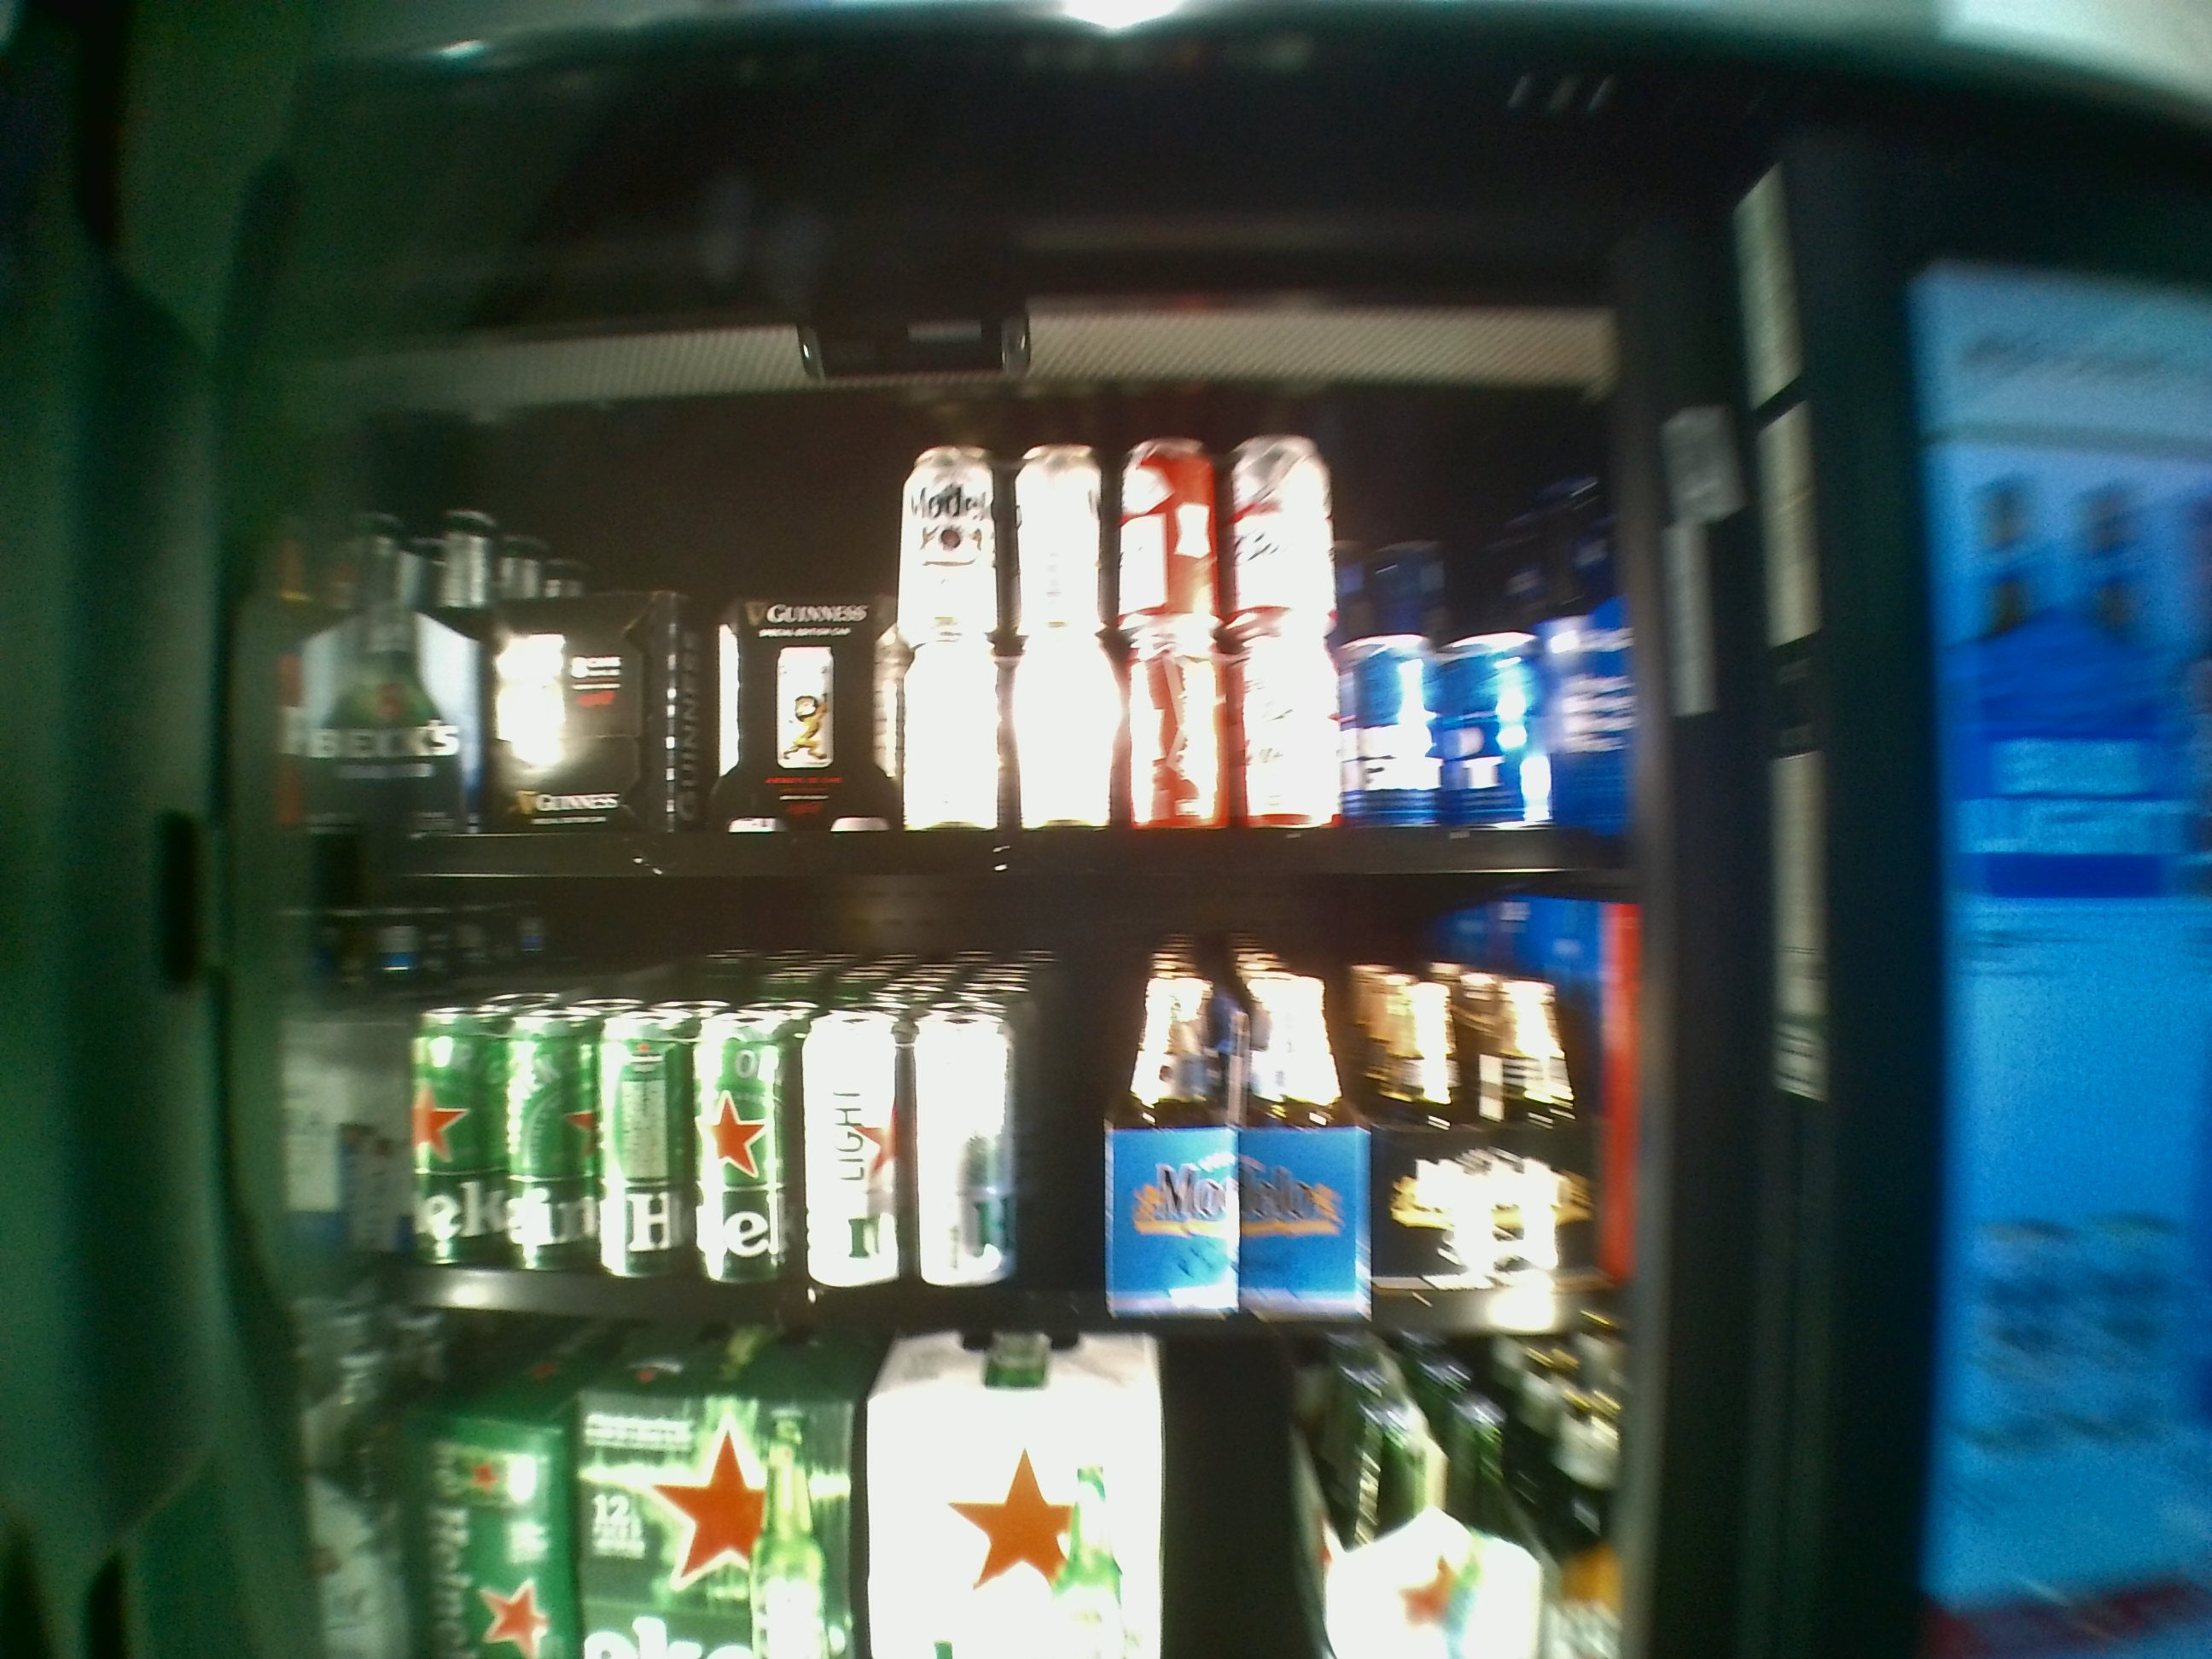shelf: (286, 884, 1627, 1338), (284, 416, 1623, 871)
